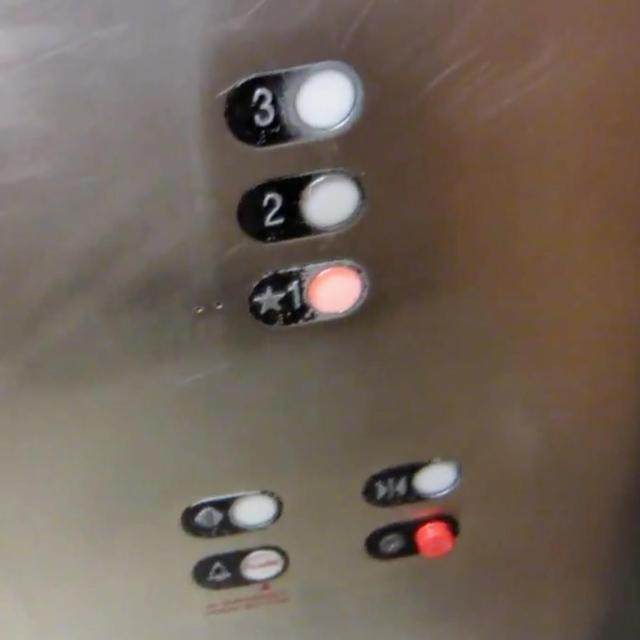2: (236, 168, 365, 244)
3: (224, 60, 364, 148)
alarm: (192, 546, 289, 590)
close: (361, 456, 461, 507)
open: (180, 490, 282, 538)
s1: (246, 259, 370, 328)
stop: (364, 514, 459, 560)
